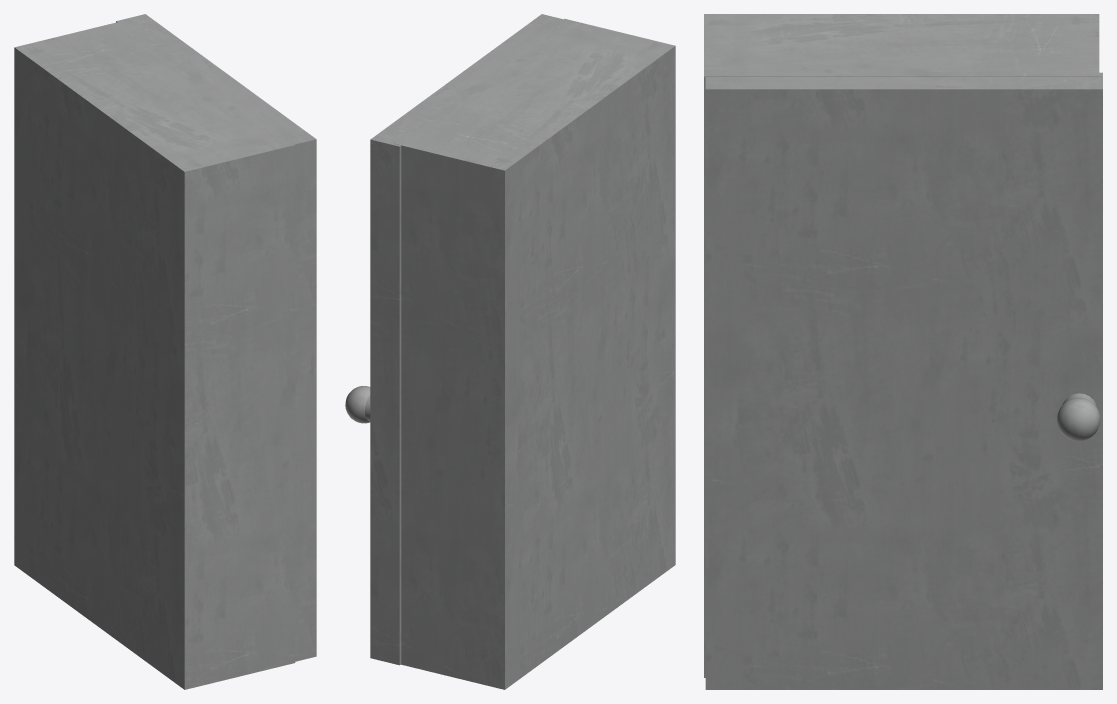
Rendered from cab.gltf.
The picture shows the model from 3 angles, left to right: view 1: azimuth 30°, elevation 25°; view 2: azimuth 150°, elevation 25°; view 3: azimuth 270°, elevation 25°; orthographic projection. The views are drawn at different scales.
Visible parts, largest first — view 1: pCube1, pCube5; view 2: pCube1, pCube5, pSphere1; view 3: pCube5, pCube1, pSphere1.
Part boxes in pixels (x1,y1,x2,y2): pCube1: (14, 20, 295, 689); pCube5: (116, 14, 316, 661); pCube1: (394, 18, 675, 689); pCube5: (370, 14, 563, 665); pSphere1: (345, 386, 370, 423); pCube5: (705, 72, 1102, 689); pCube1: (704, 14, 1099, 677); pSphere1: (1057, 397, 1100, 441).
Size of the model in its own units: 0.1112 by 0.3323 by 0.1998.
Materials: 1 (1 with a texture image).
